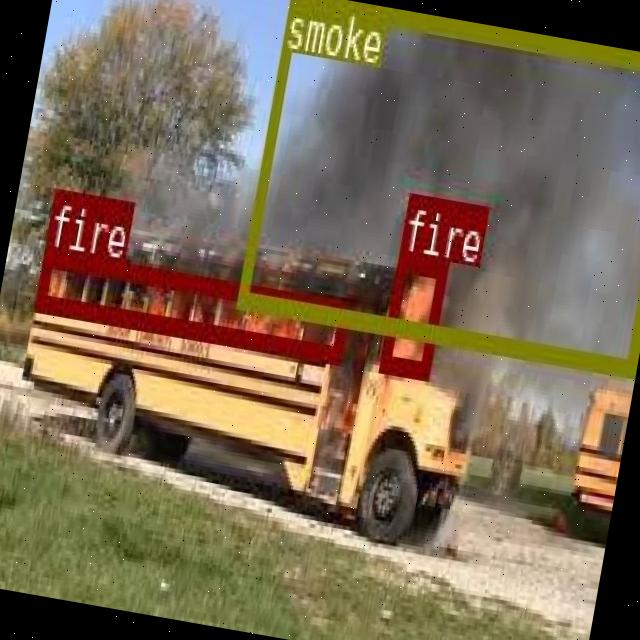fire: (34, 245, 349, 361), (379, 250, 447, 374)
smoke: (237, 0, 640, 371)
